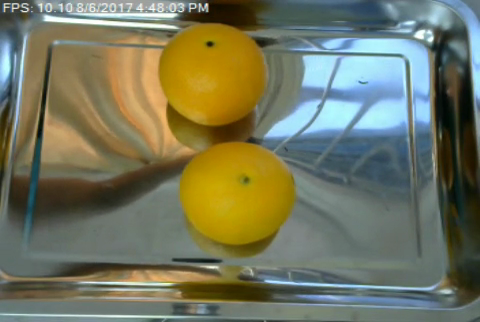Orange: (179, 141, 296, 244), (158, 22, 268, 125)
